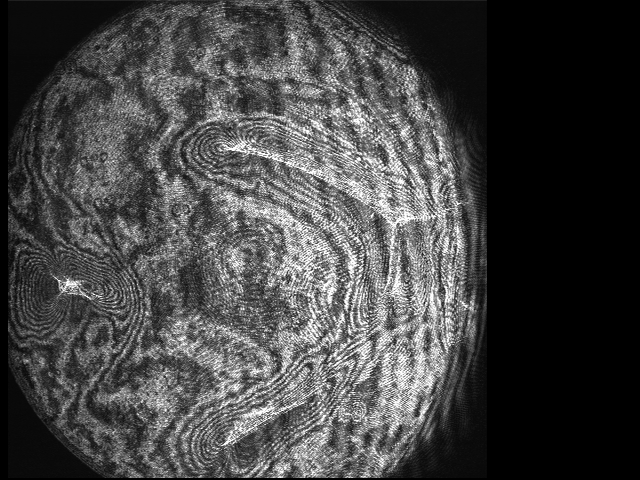plume: (8, 242, 135, 332)
